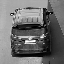motor: (14, 4, 51, 58)
